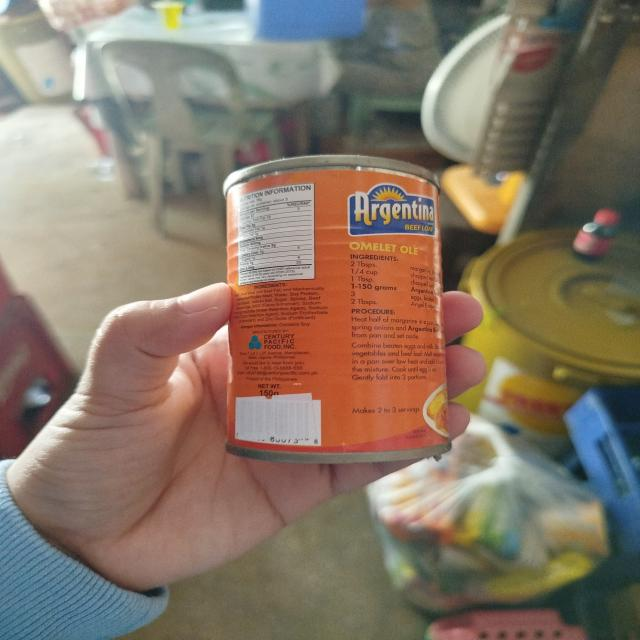metal: (198, 146, 477, 472)
plastic: (557, 205, 629, 266)
residual: (356, 418, 610, 603)
